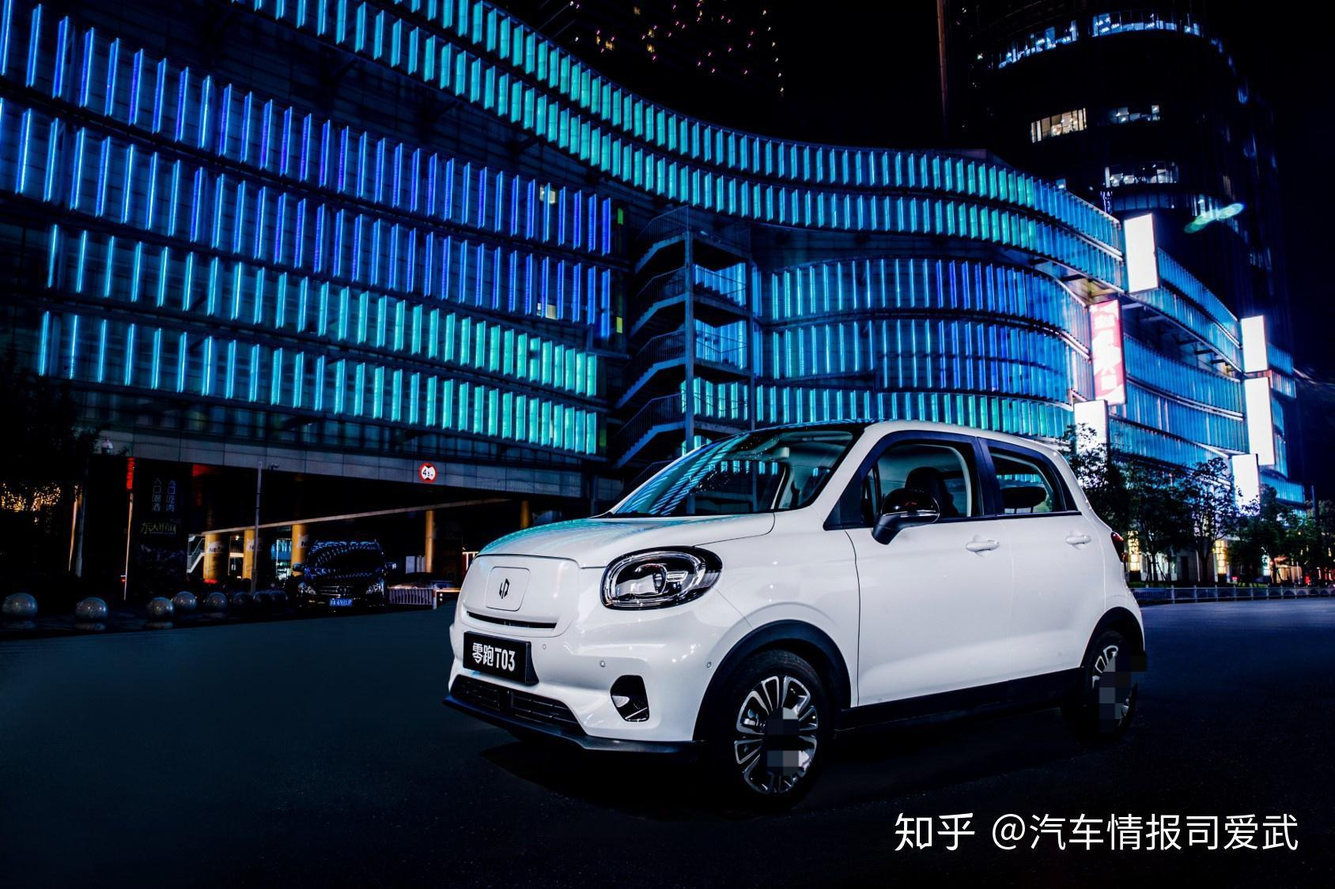LEAPMOTOR: (498, 578, 510, 599)
